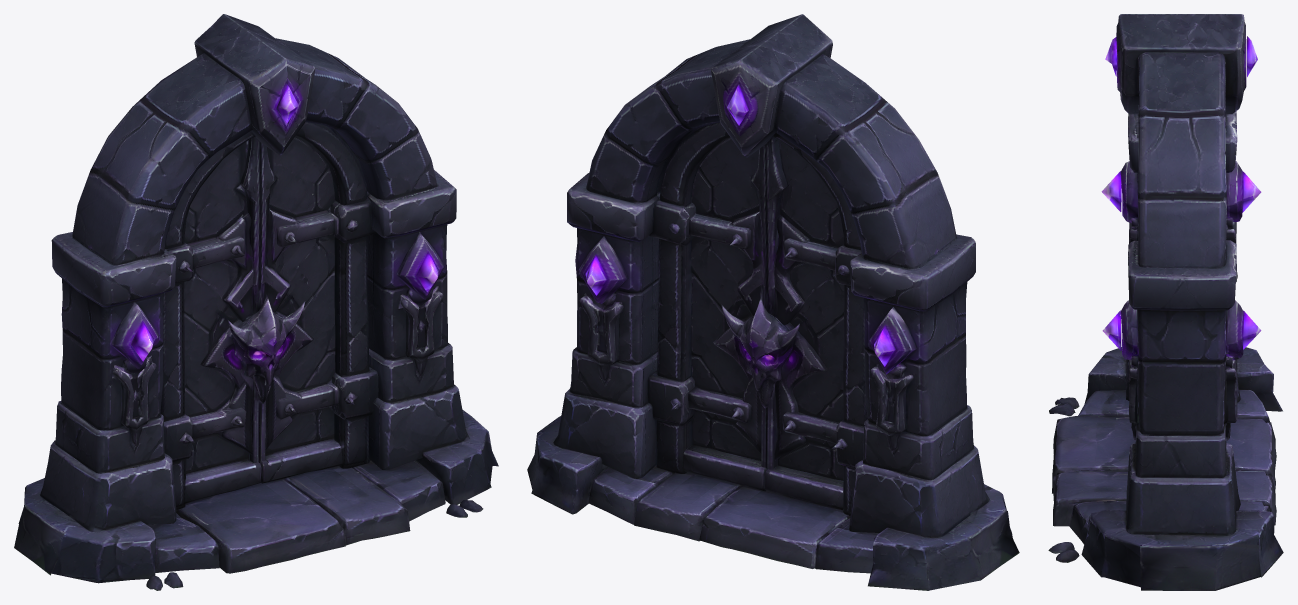
Rendered from door_standard.glb.
The picture shows the model from 3 angles, left to right: view 1: azimuth 30°, elevation 25°; view 2: azimuth 150°, elevation 25°; view 3: azimuth 270°, elevation 25°; orthographic projection.
Bounding box in the file's own units: 1 × 1 × 0.4561.
Materials: 1 (1 with a texture image).
